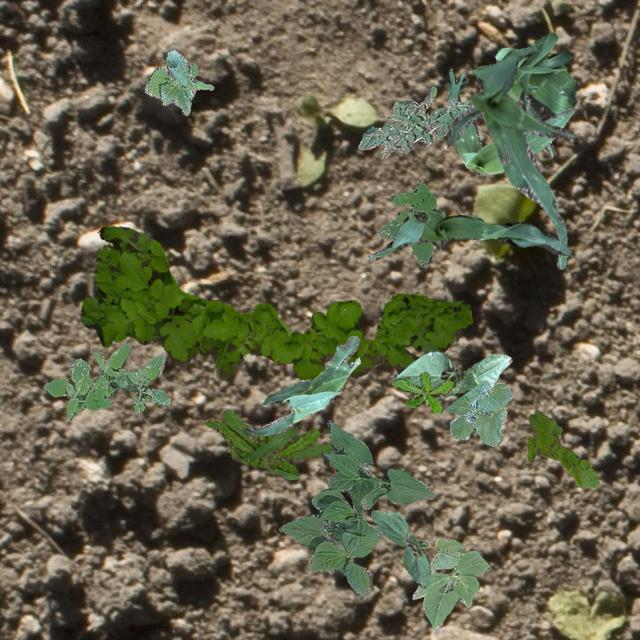crop: (446, 45, 574, 268), (277, 420, 433, 600), (446, 70, 574, 174), (242, 334, 360, 434), (494, 30, 576, 156), (364, 212, 570, 260), (412, 538, 489, 632), (392, 349, 510, 398), (370, 508, 430, 588), (444, 380, 512, 446), (144, 49, 212, 114)
weed: (80, 226, 472, 380), (44, 341, 170, 418), (376, 182, 482, 266), (204, 409, 332, 478), (358, 86, 470, 158), (526, 408, 598, 486), (392, 370, 452, 412)
